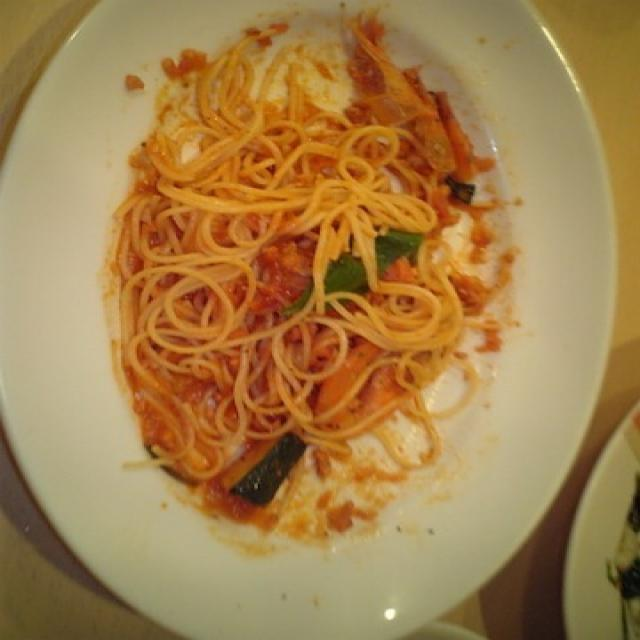Pasta: (131, 88, 473, 500)
